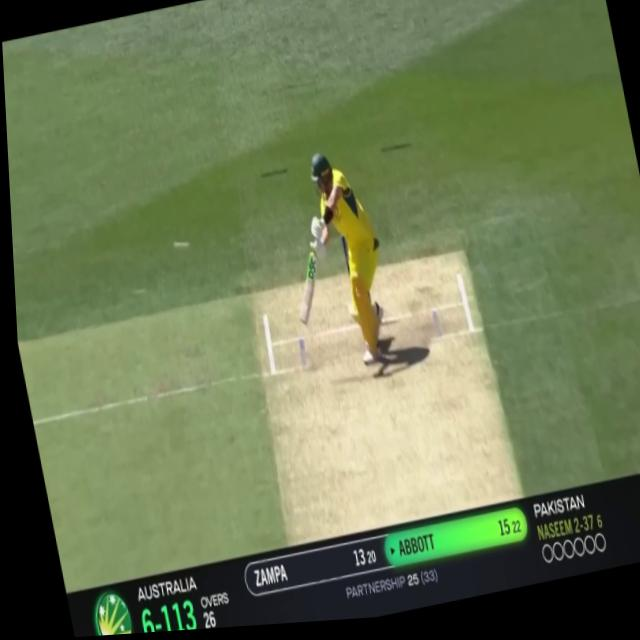Batsman: (265, 123, 402, 394)
